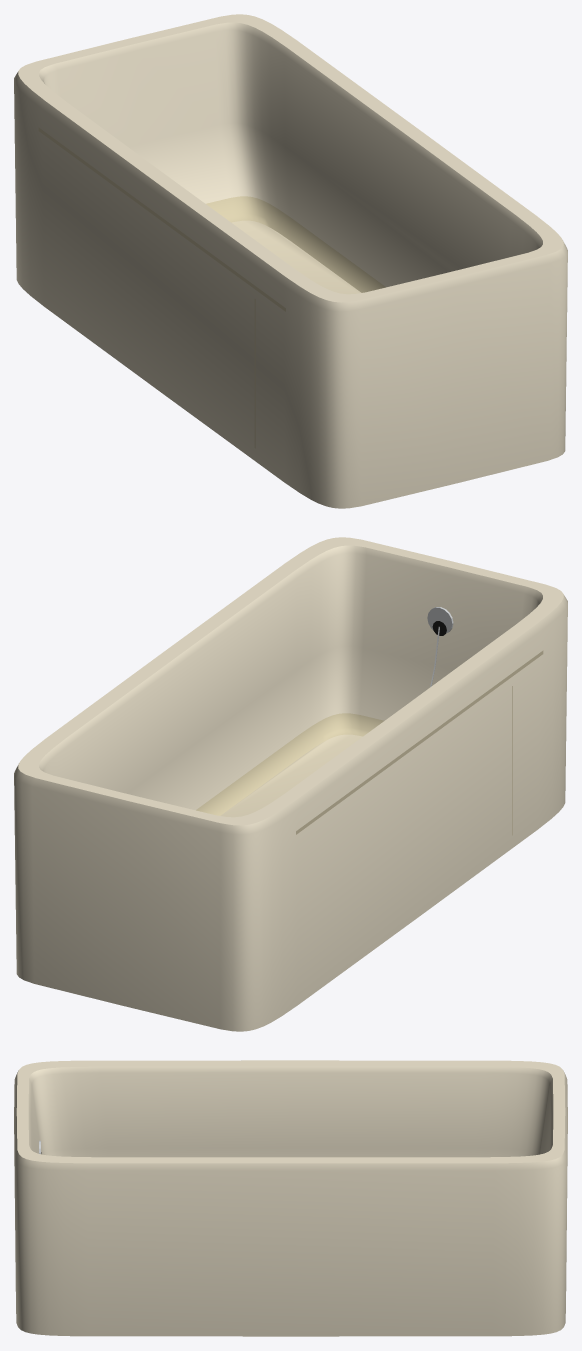
Rendered from bathtub.glb.
3 renders of one model, top to bottom at view 1: azimuth 30°, elevation 25°; view 2: azimuth 150°, elevation 25°; view 3: azimuth 270°, elevation 25°, orthographic. The views are drawn at different scales.
Visible parts, largest first — view 1: bathtub; view 2: bathtub; view 3: bathtub.
Part boxes in pixels (bbox=[...]): bathtub: bbox=[14, 14, 567, 508]; bathtub: bbox=[14, 537, 567, 1031]; bathtub: bbox=[14, 1060, 567, 1336].
Size of the model in its own units: 0.7204 by 0.55 by 1.6.
